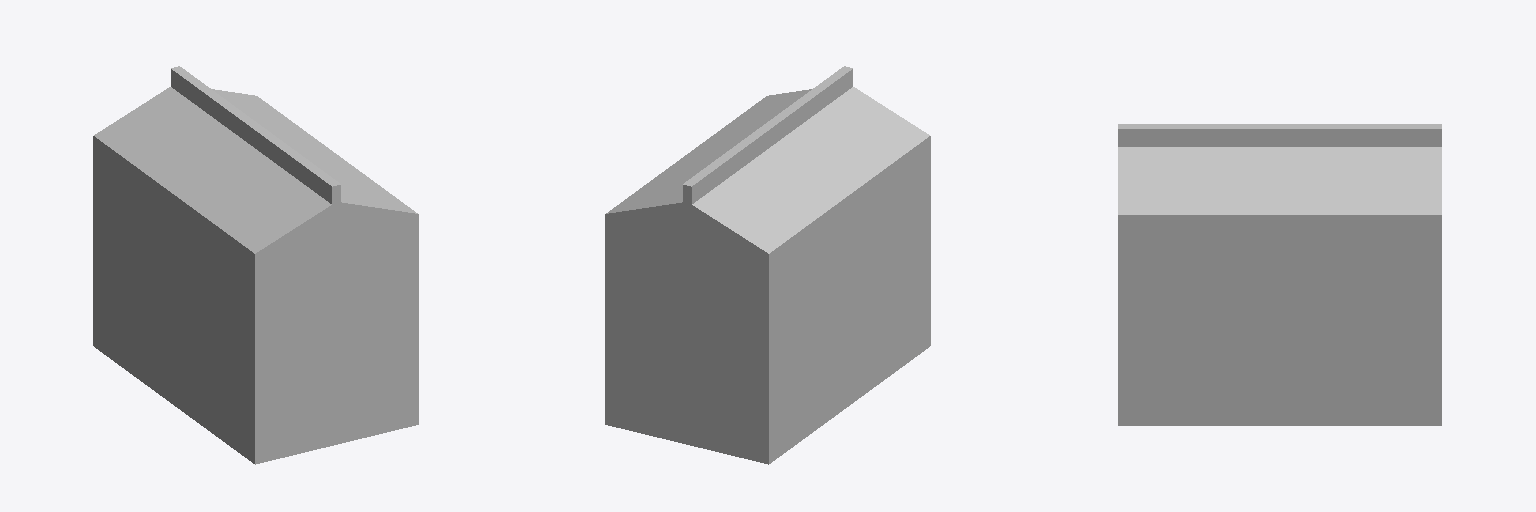
Rendered from Packet_Noodle.obj.
3 views of the same model, side by side, from view 1: azimuth 30°, elevation 25°; view 2: azimuth 150°, elevation 25°; view 3: azimuth 270°, elevation 25° (orthographic).
Parts seen in each view (by area): view 1: DM2114_EX08_Packet:pCube1; view 2: DM2114_EX08_Packet:pCube1; view 3: DM2114_EX08_Packet:pCube1.
Boxes of the visible parts, x1=… form: DM2114_EX08_Packet:pCube1: x1=93, y1=66, x2=418, y2=464; DM2114_EX08_Packet:pCube1: x1=605, y1=66, x2=930, y2=464; DM2114_EX08_Packet:pCube1: x1=1118, y1=124, x2=1441, y2=425.
Bounding box in the file's own units: 0.6665 × 1.01 × 1.14.